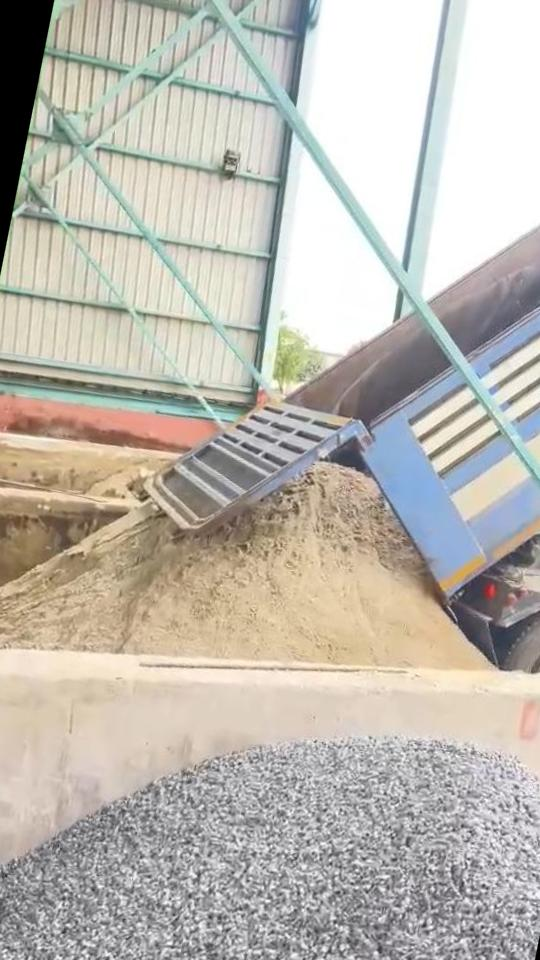gravel: (0, 737, 540, 960)
sand: (0, 464, 487, 669), (88, 463, 151, 499)
